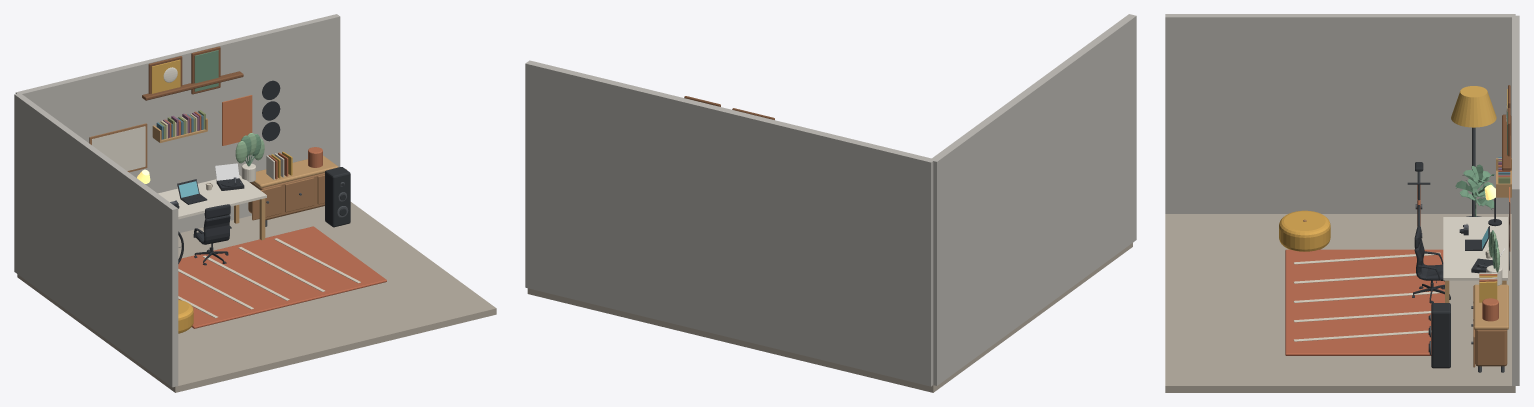
Rendered from room.glb.
The picture shows the model from 3 angles, left to right: view 1: azimuth 30°, elevation 25°; view 2: azimuth 150°, elevation 25°; view 3: azimuth 270°, elevation 25°; orthographic projection. The views are drawn at different scales.
Visible parts, largest first — view 1: baked_wall_side, baked_wall, baked_floor, decor_rug_base, baked_desktop, int_whiteboard, int_poster, baked_chair, decor_speaker_body, decor_sideboard_top, decor_sideboard_door.001, decor_frame_art_1 (+5 smaller); view 2: baked_wall, baked_wall_side, baked_floor; view 3: baked_wall_side, baked_floor, decor_rug_base, baked_wall, baked_desktop, decor_pouf, decor_floorlamp_shade, decor_speaker_body, decor_sideboard_body, baked_chair, decor_sideboard_top, baked_plant (+8 smaller).
Boxes of the visible parts, box(x1,y1,x2,y2) form: baked_wall_side: box(14, 93, 178, 387); baked_wall: box(15, 14, 340, 232); baked_floor: box(17, 202, 496, 392); decor_rug_base: box(178, 226, 386, 328); baked_desktop: box(158, 175, 266, 219); int_whiteboard: box(92, 126, 145, 170); int_poster: box(222, 95, 252, 145); baked_chair: box(193, 204, 231, 265); decor_speaker_body: box(325, 167, 350, 227); decor_sideboard_top: box(252, 155, 338, 188); decor_sideboard_door.001: box(285, 177, 314, 212); decor_frame_art_1: box(194, 50, 218, 91); baked_wall: box(525, 60, 933, 386); baked_wall_side: box(930, 14, 1136, 385); baked_floor: box(527, 243, 1132, 392); baked_wall_side: box(1165, 14, 1515, 213); baked_floor: box(1165, 214, 1515, 392); decor_rug_base: box(1285, 249, 1444, 355); baked_wall: box(1512, 15, 1519, 385); baked_desktop: box(1443, 217, 1507, 280); decor_pouf: box(1279, 210, 1330, 251); decor_floorlamp_shade: box(1451, 86, 1496, 127); decor_speaker_body: box(1431, 303, 1450, 368); decor_sideboard_body: box(1475, 329, 1507, 366); baked_chair: box(1412, 225, 1450, 303); decor_sideboard_top: box(1474, 284, 1508, 329); baked_plant: box(1455, 164, 1494, 216).
Size of the model in its own units: 5.45 by 2.96 by 4.65.
